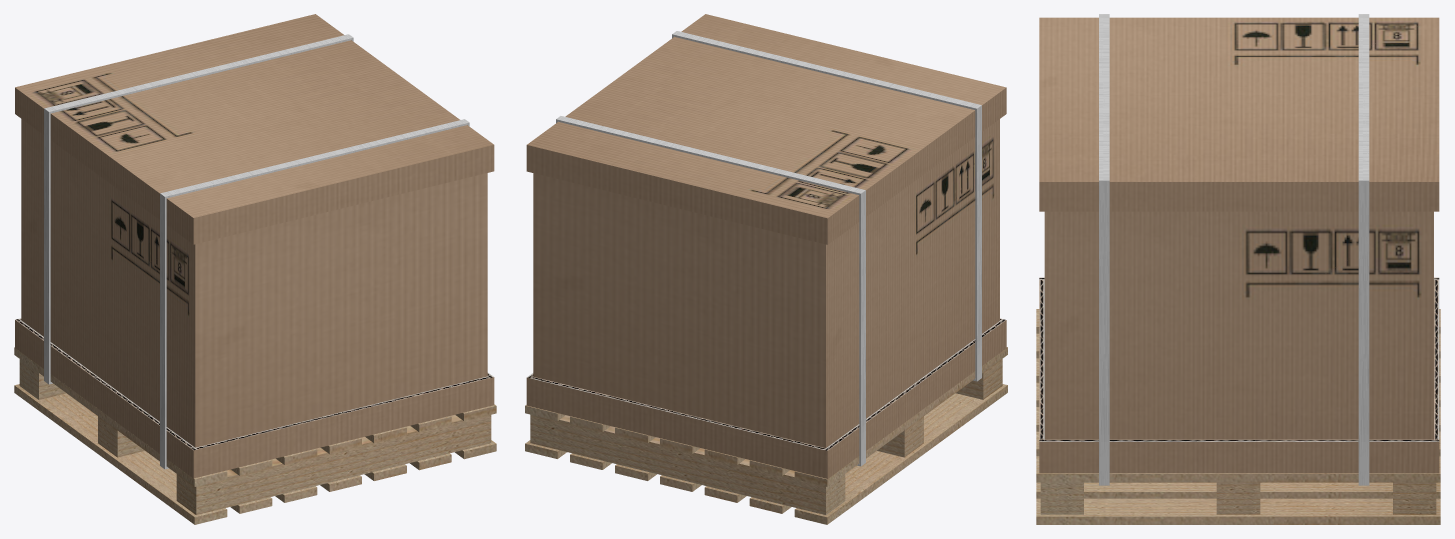
File: Box big.fbx
3 views of the same model, side by side, from view 1: azimuth 30°, elevation 25°; view 2: azimuth 150°, elevation 25°; view 3: azimuth 270°, elevation 25° (orthographic). The views are drawn at different scales.
Parts seen in each view (by area): view 1: Box big_LOD0; view 2: Box big_LOD0; view 3: Box big_LOD0.
Part boxes in pixels (box(x1,y1,x2,y2)): Box big_LOD0: box(14, 14, 496, 524); Box big_LOD0: box(525, 14, 1007, 524); Box big_LOD0: box(1036, 14, 1440, 524).
Size of what is drawn, in the model's own units: 0.999 by 0.9653 by 1.02.
